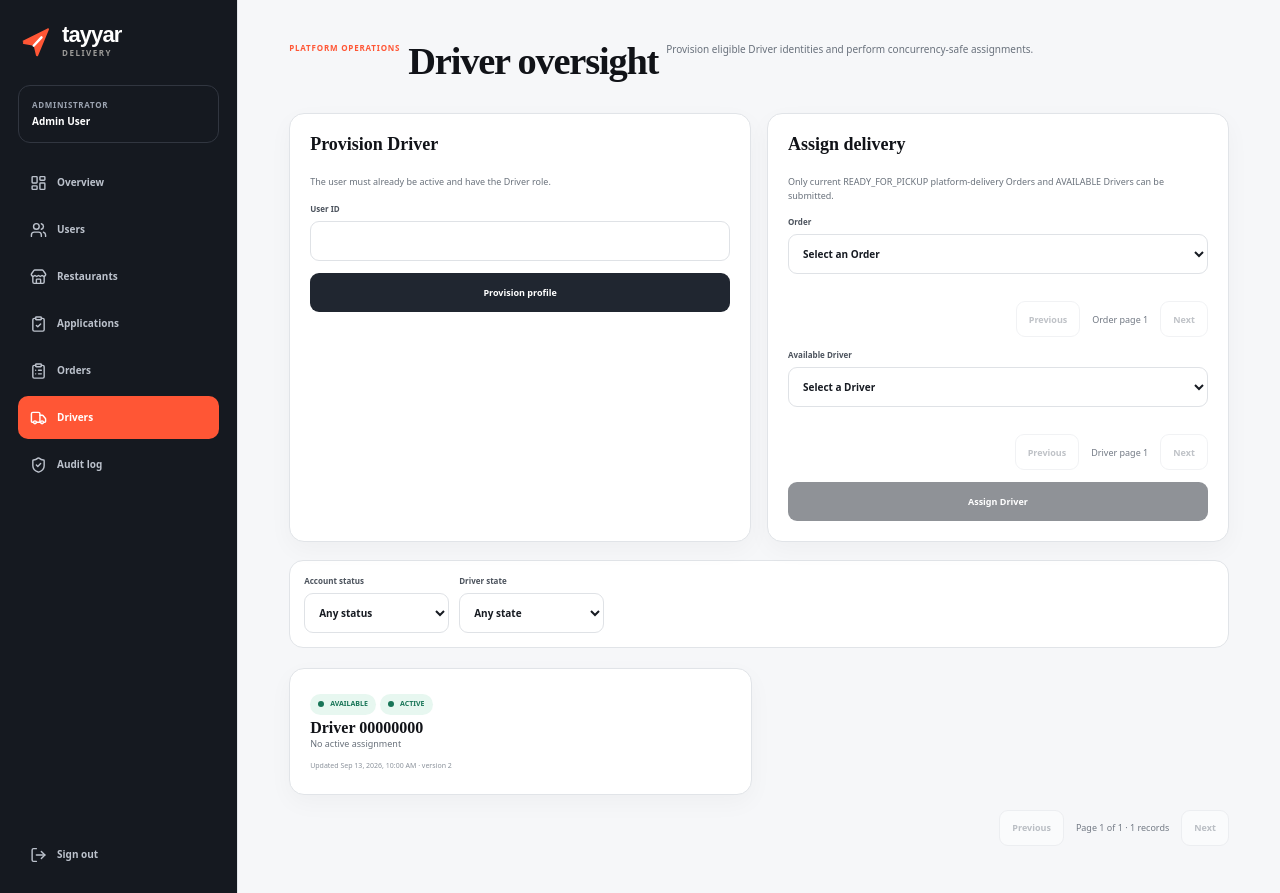
Test: shows a stale assignment conflict, refetches scoped state, and never retries
Select "00000000 · Tayyar Grill · v7" in the dropdown labelled "Order": (998, 254) [788,234,1208,274]
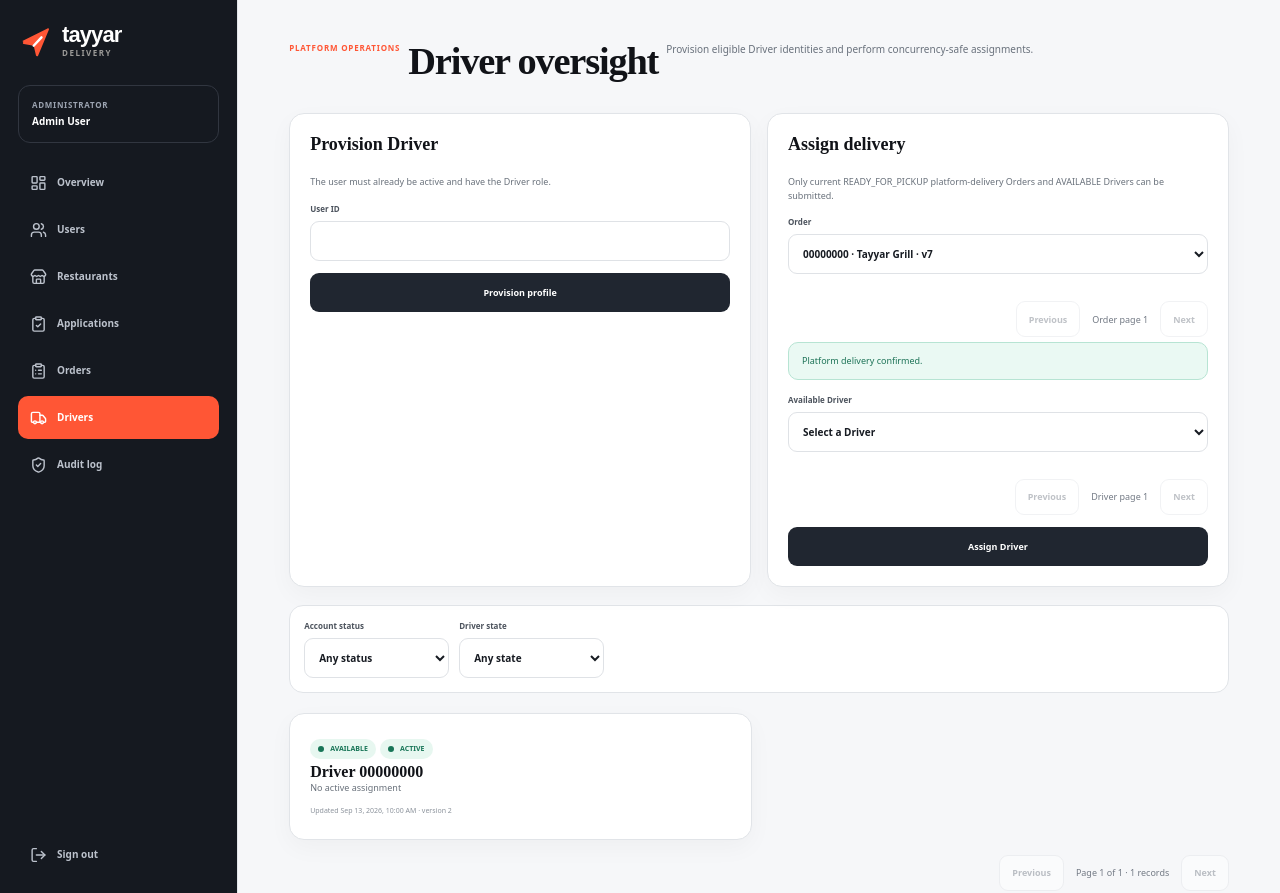
Expected: the text "Platform delivery confirmed." is shown, [788,342,1208,380]
Select "00000000" in the dropdown labelled "Available Driver": (998, 432) [788,412,1208,452]
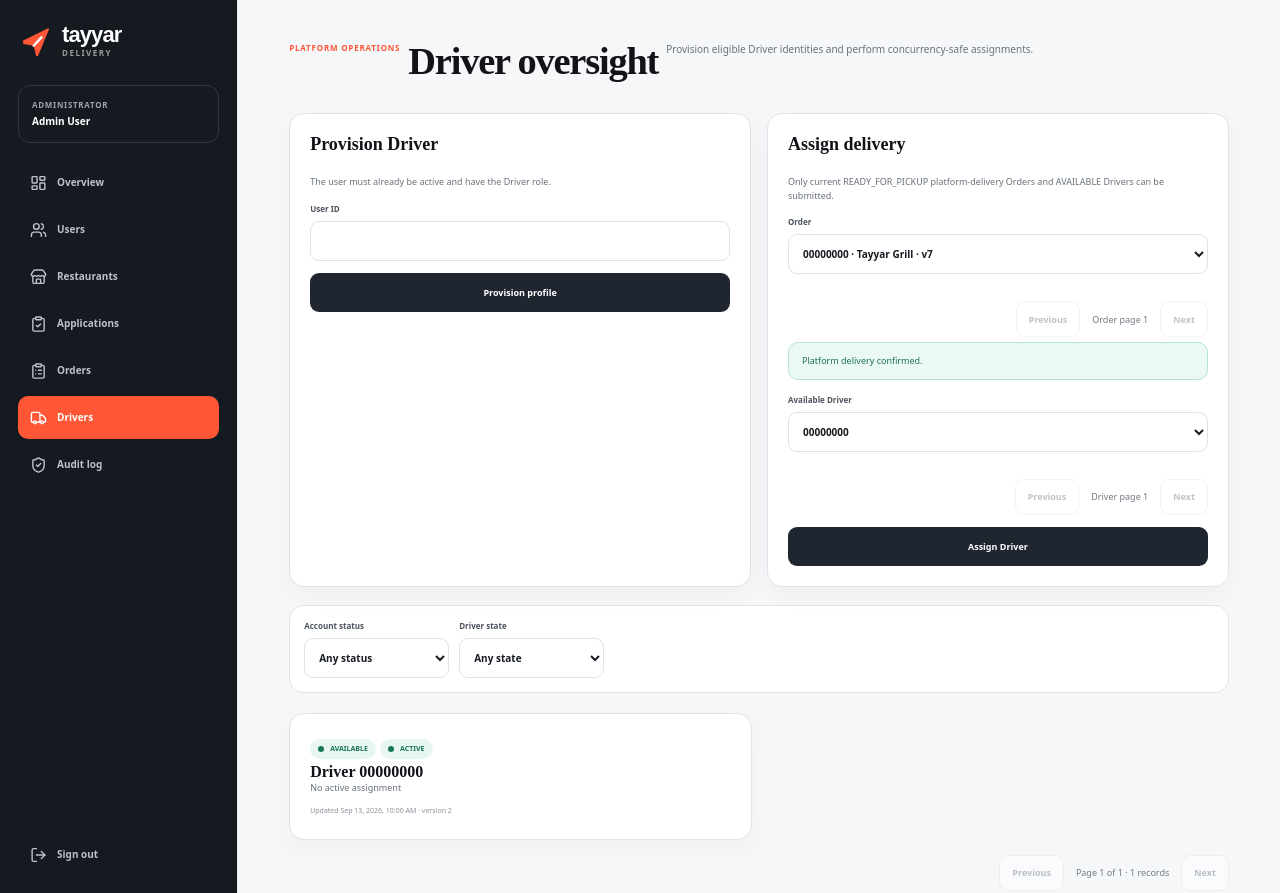
Click the button "Assign Driver": (998, 546) [788,527,1208,566]
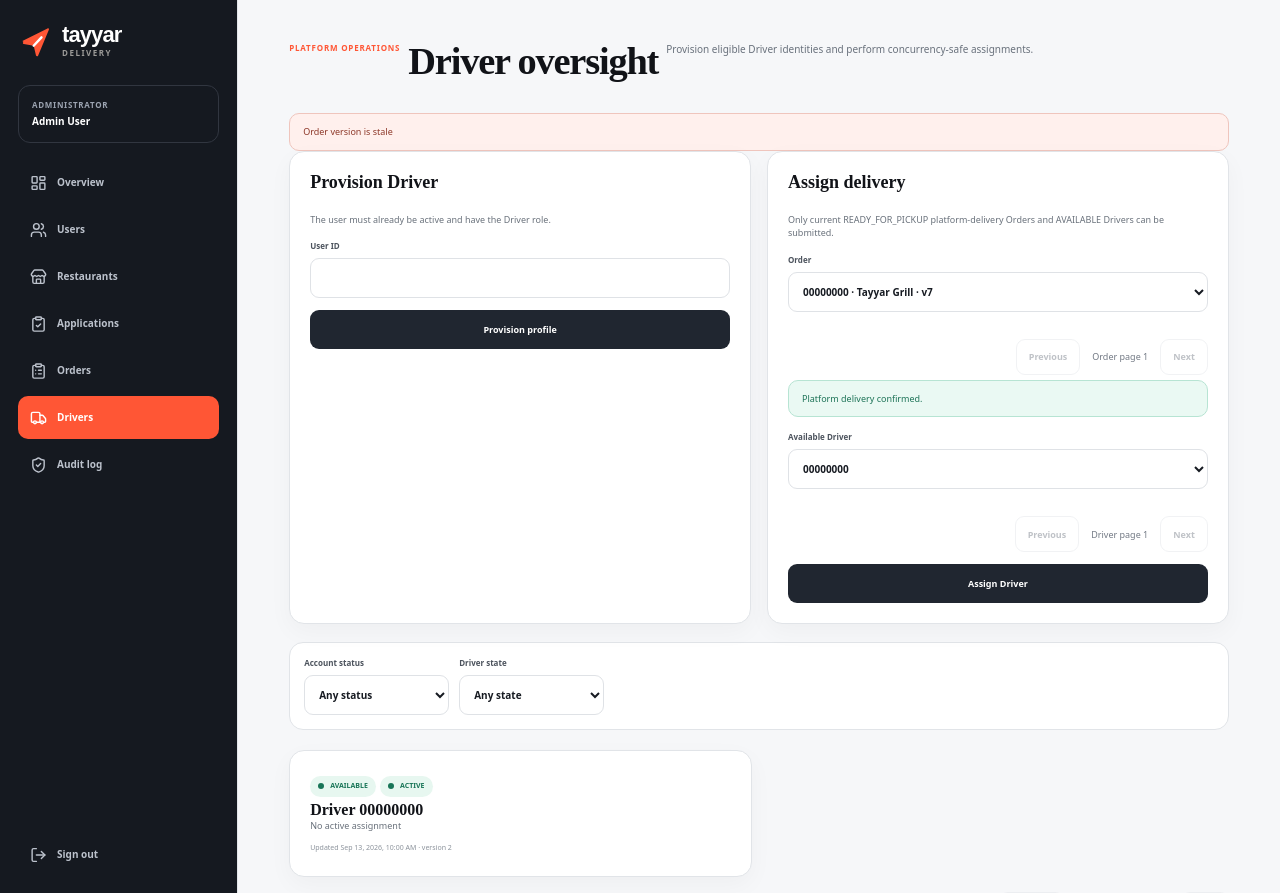
Expected: the text "Order version is stale" is shown, [289,113,1229,151]
